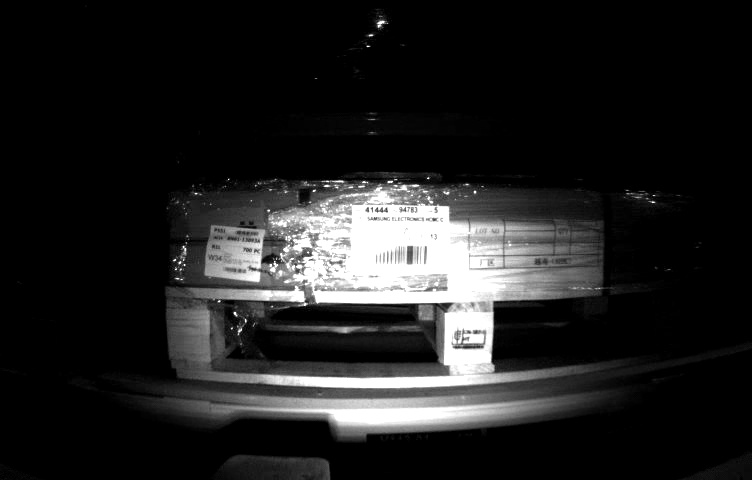True Barcode: (206, 221, 264, 282)
